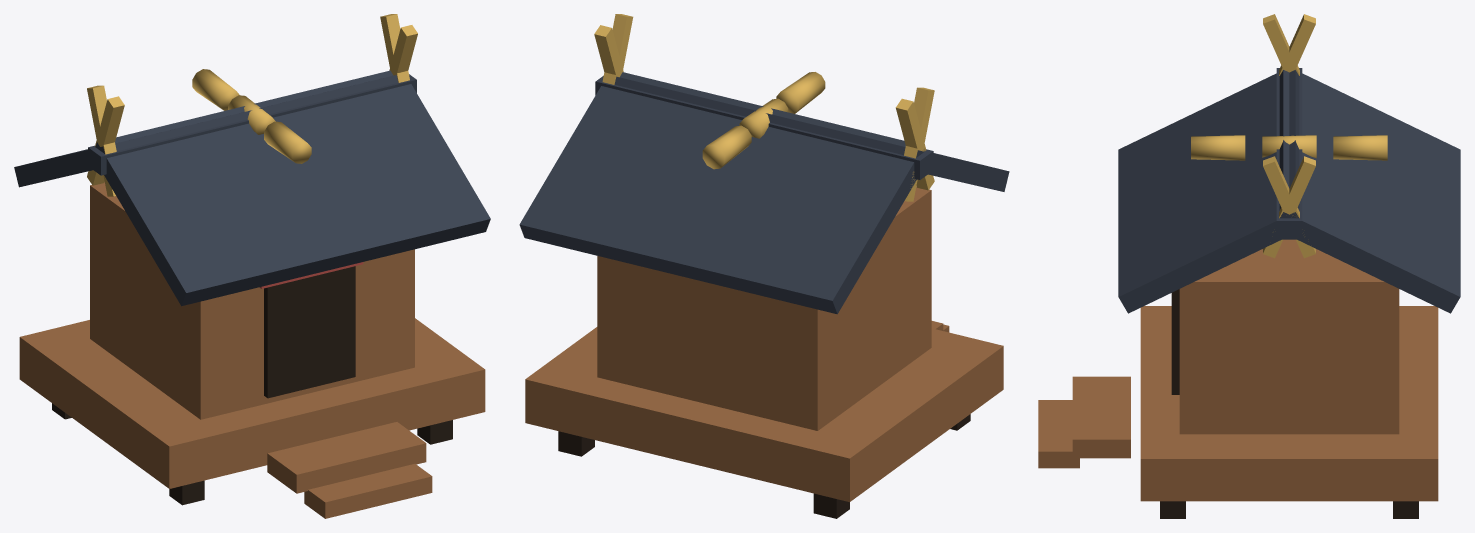
File: xy_landmark_shrine.glb
3 renders of one model, left to right at view 1: azimuth 30°, elevation 25°; view 2: azimuth 150°, elevation 25°; view 3: azimuth 270°, elevation 25°, orthographic. The views are drawn at different scales.
Parts seen in each view (by area): view 1: xy_landmark_shrine; view 2: xy_landmark_shrine; view 3: xy_landmark_shrine.
Boxes of the visible parts, x1,y1,x2,y2 form: xy_landmark_shrine: [14, 14, 490, 518]; xy_landmark_shrine: [519, 14, 1009, 518]; xy_landmark_shrine: [1038, 14, 1460, 518].
Bounding box in the file's own units: 2.8 × 3.12 × 3.26.
